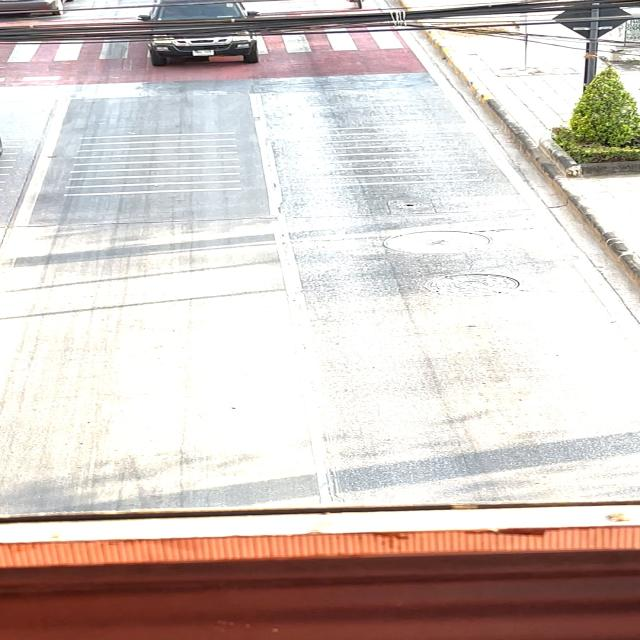car: (125, 0, 265, 74)
